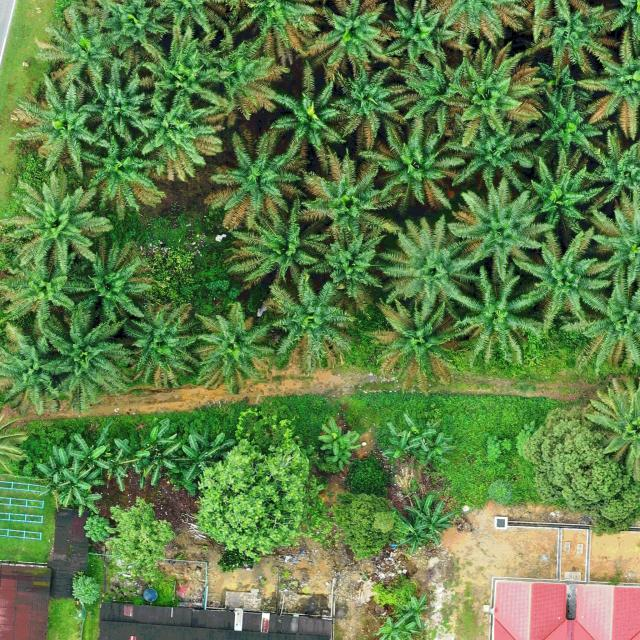0: (1, 173, 114, 289), (444, 36, 546, 150), (202, 128, 310, 232), (9, 68, 104, 179), (452, 264, 549, 372), (377, 212, 483, 307), (516, 225, 614, 327), (41, 306, 136, 411), (296, 143, 398, 240), (265, 270, 359, 375), (372, 296, 474, 392), (447, 180, 545, 279), (443, 108, 546, 200), (221, 200, 325, 290), (508, 148, 601, 244), (357, 122, 458, 210), (558, 273, 640, 378), (137, 24, 236, 108), (65, 233, 154, 323), (140, 91, 228, 181), (211, 26, 293, 122), (575, 19, 640, 140), (76, 132, 163, 221), (192, 301, 280, 387), (330, 60, 410, 152), (272, 57, 350, 151), (118, 299, 198, 387), (0, 319, 69, 418), (582, 374, 640, 488), (304, 222, 386, 300), (36, 10, 117, 87), (533, 3, 616, 78), (304, 0, 392, 70), (0, 243, 77, 321), (84, 59, 151, 143), (396, 56, 468, 134), (583, 192, 640, 290), (379, 3, 462, 68), (538, 86, 608, 162), (584, 124, 640, 203), (101, 0, 171, 59), (531, 57, 574, 92)
banana_tree2: (391, 490, 462, 559), (381, 411, 458, 468), (139, 416, 182, 489), (181, 426, 238, 481), (56, 456, 105, 516), (316, 417, 362, 472), (37, 442, 77, 499), (69, 434, 110, 470), (113, 437, 151, 475), (372, 615, 416, 640), (402, 592, 430, 629)
tree: (516, 404, 640, 537), (197, 436, 312, 554), (105, 494, 176, 582), (331, 490, 411, 563)
